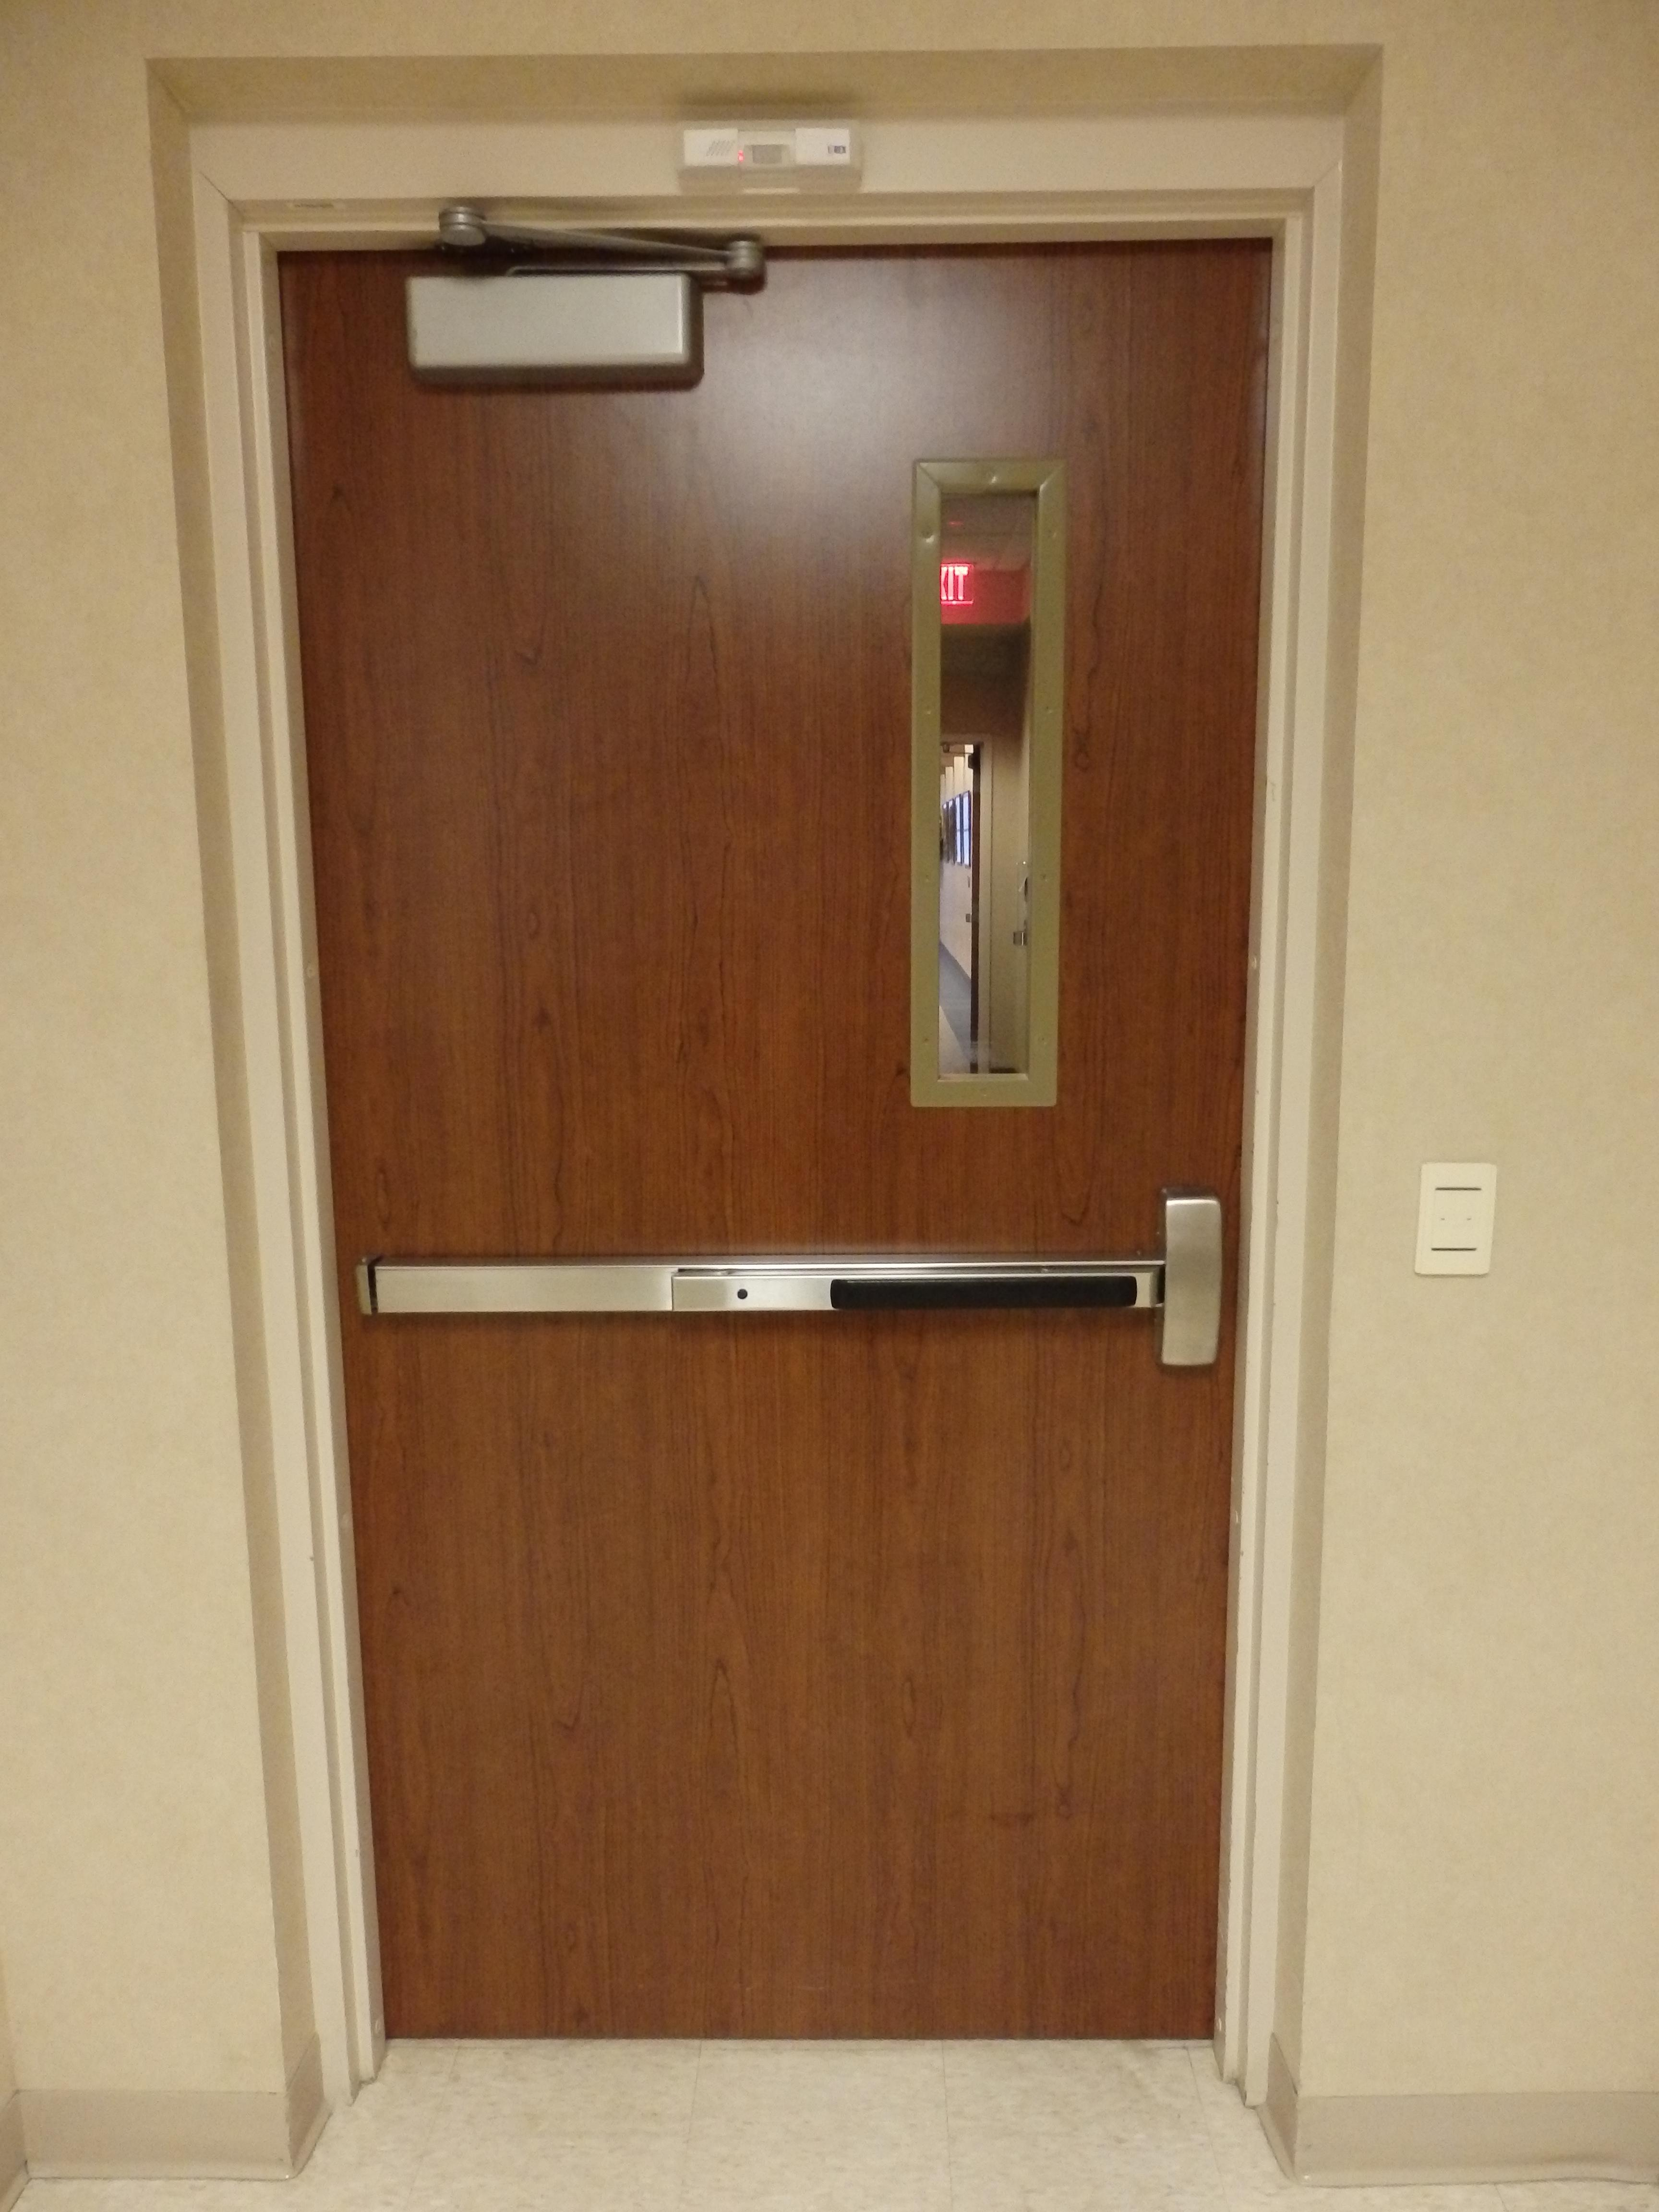door: (188, 110, 1345, 2107)
